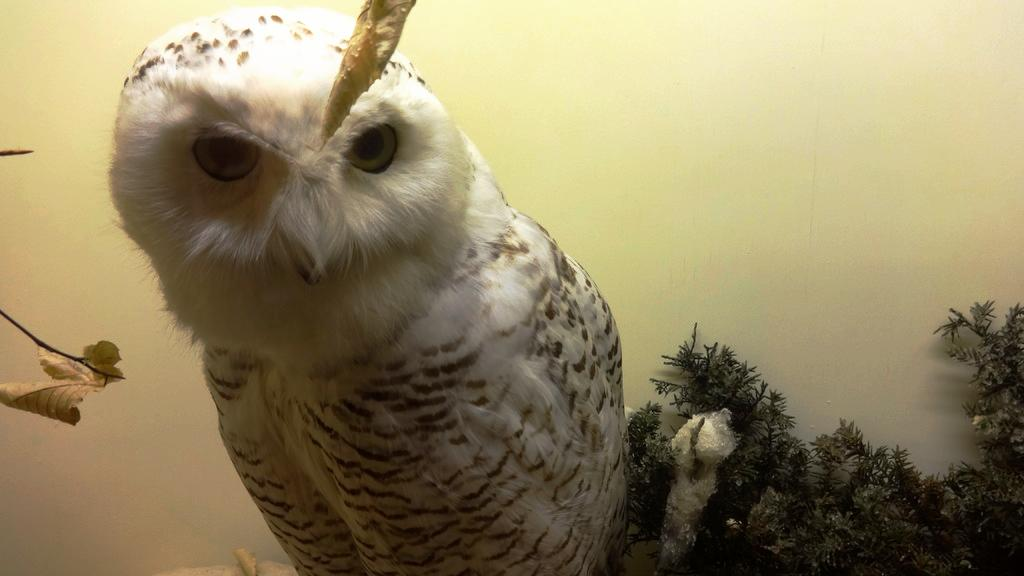Owl: (100, 3, 632, 576)
